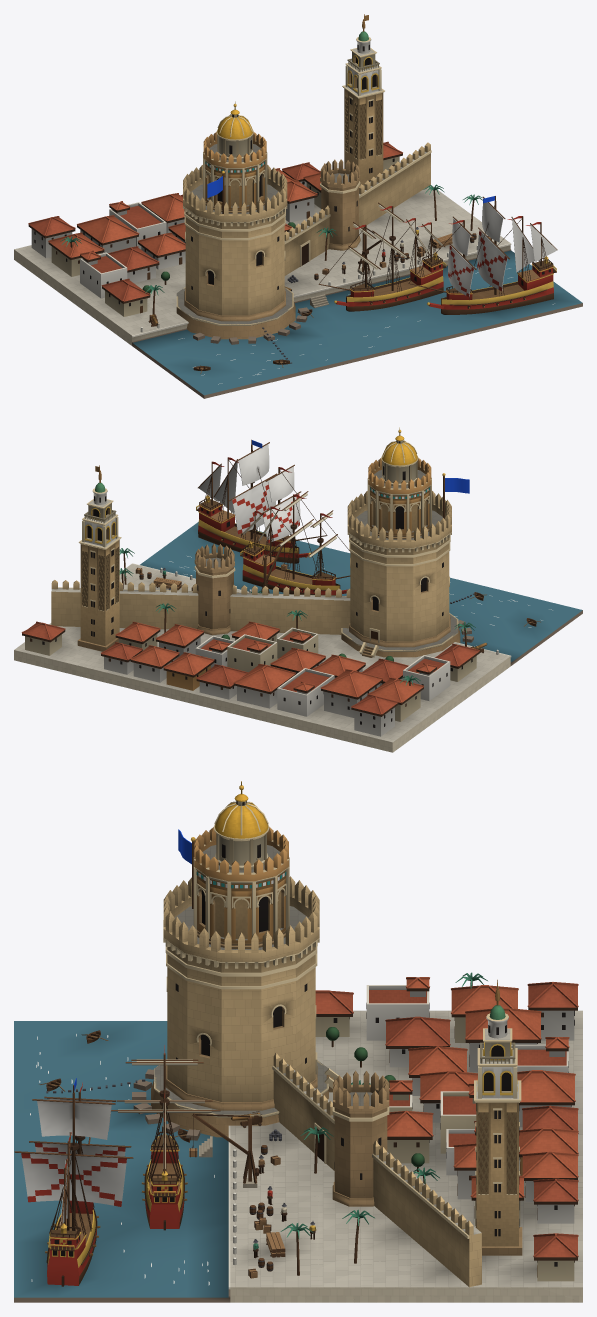
The model's file is lm_altinkule.glb.
3 renders of one model, top to bottom at view 1: azimuth 30°, elevation 25°; view 2: azimuth 150°, elevation 25°; view 3: azimuth 270°, elevation 25°, orthographic. The views are drawn at different scales.
Parts seen in each view (by area): view 1: lm_altinkule; view 2: lm_altinkule; view 3: lm_altinkule.
Boxes of the visible parts, x1,y1,x2,y2 form: lm_altinkule: [14, 14, 582, 398]; lm_altinkule: [14, 427, 582, 752]; lm_altinkule: [14, 781, 582, 1302].
Size of the model in its own units: 2.3 by 1.3 by 2.
Materials: 1 (1 with a texture image).
